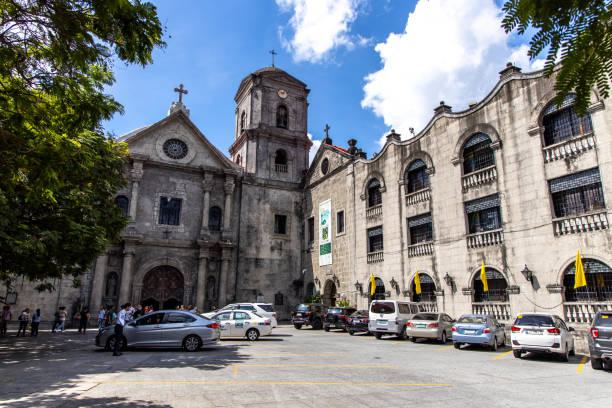Environmental Damage: (294, 198, 306, 223)
San Agustin Church: (102, 43, 310, 323)
